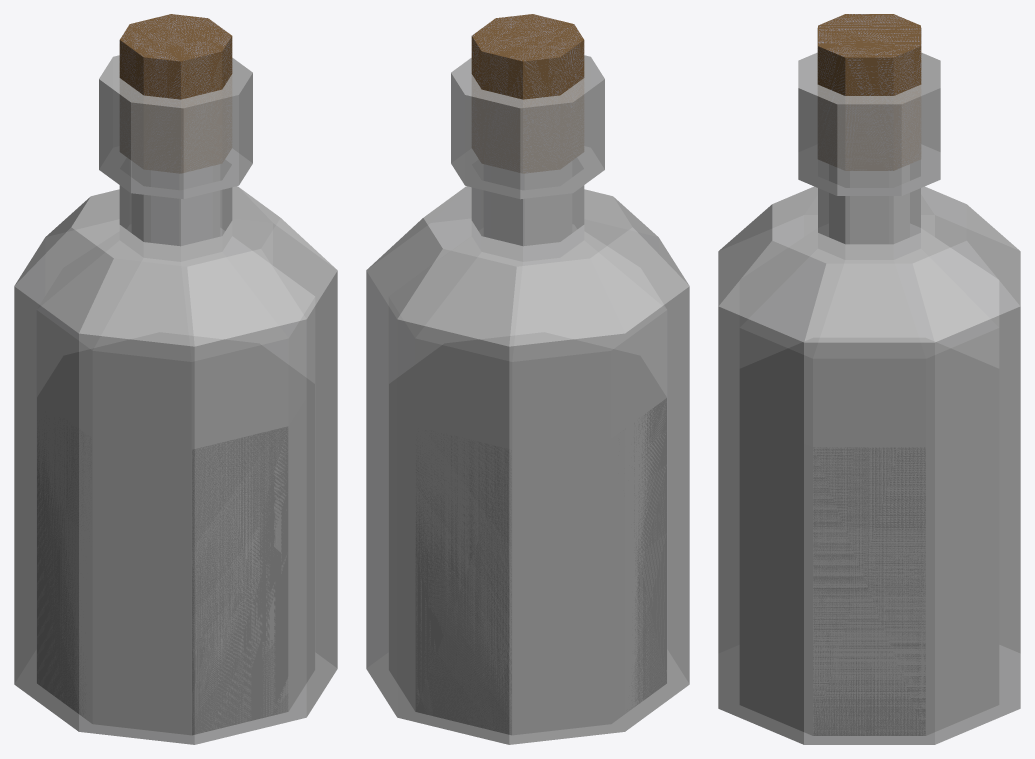
3 views of the same model, side by side, from view 1: azimuth 30°, elevation 25°; view 2: azimuth 150°, elevation 25°; view 3: azimuth 270°, elevation 25° (orthographic).
Parts seen in each view (by area): view 1: Glass_Bottle (×4), Liquid, Cork; view 2: Glass_Bottle (×4), Liquid, Cork; view 3: Glass_Bottle (×4), Cork, Liquid.
Boxes of the visible parts, left/top/right/bottom form: Glass_Bottle (×4): left=14, top=55, right=337, bottom=744; Liquid: left=37, top=427, right=287, bottom=734; Cork: left=119, top=14, right=232, bottom=173; Glass_Bottle (×4): left=366, top=55, right=689, bottom=744; Liquid: left=416, top=398, right=666, bottom=734; Cork: left=471, top=14, right=584, bottom=173; Glass_Bottle (×4): left=718, top=52, right=1020, bottom=744; Cork: left=817, top=14, right=921, bottom=170; Liquid: left=813, top=447, right=925, bottom=735.
Bounding box in the file's own units: 134 × 134 × 315.
